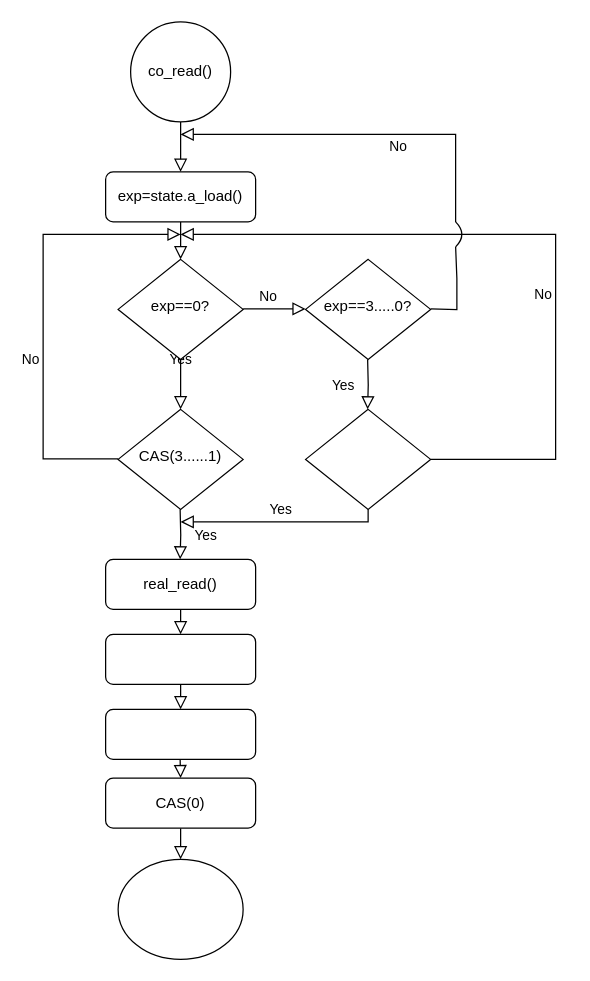
This 590x981 diagram has some shape labels left out. Here are the shapes that lost their labels. From the top down, the centre of each, then its label:
(x=367, y=458): CAS(exp+1)
(x=180, y=658): state.fetch_sub(1)
(x=180, y=733): exp=3......1
(x=180, y=908): return
